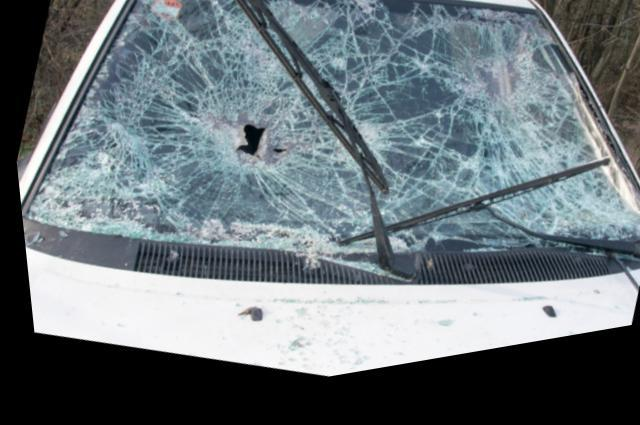glass shatter: (20, 0, 640, 267)
